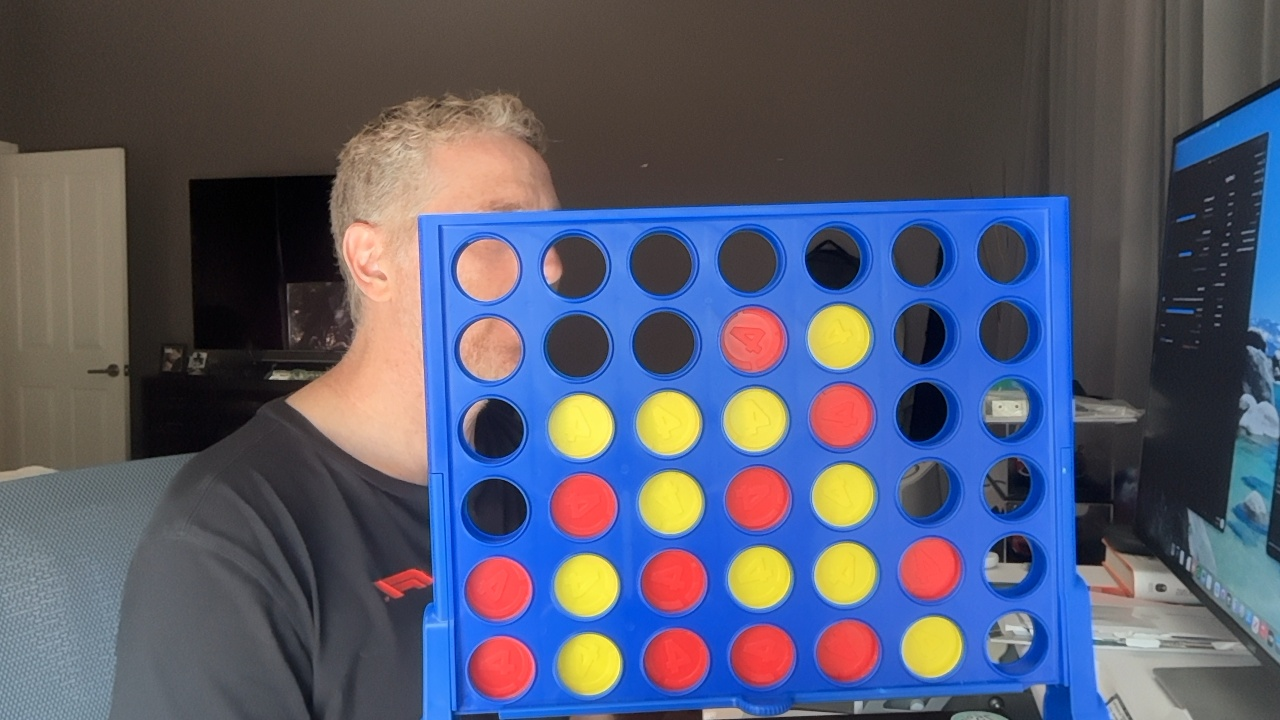red piece: (550, 473, 616, 539), (721, 307, 785, 373), (640, 549, 706, 613), (809, 383, 873, 449), (465, 557, 531, 621), (468, 636, 534, 700), (644, 628, 709, 692), (730, 624, 795, 688), (726, 466, 790, 531), (816, 620, 880, 682), (899, 537, 961, 600)
yellow piece: (548, 394, 614, 459), (636, 390, 701, 456), (638, 470, 704, 535), (556, 632, 621, 697), (554, 553, 619, 618), (723, 387, 788, 452), (807, 304, 871, 369), (811, 463, 875, 528), (728, 546, 792, 609), (814, 542, 877, 606), (902, 615, 963, 678)
